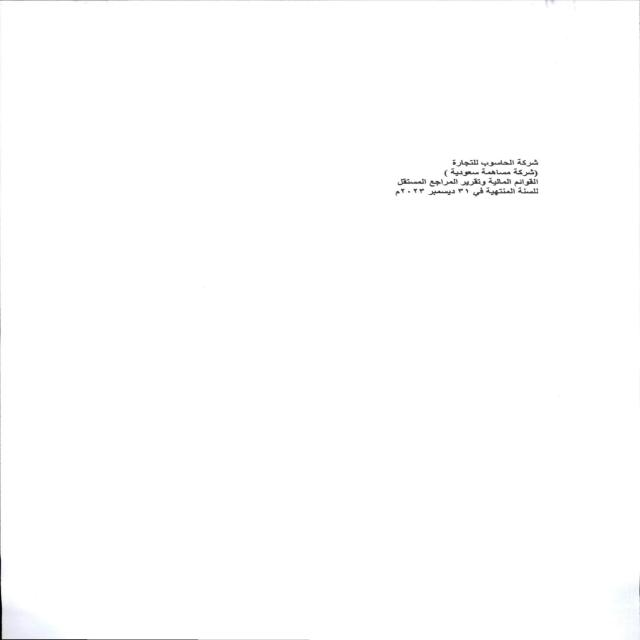other: (233, 130, 576, 353)
